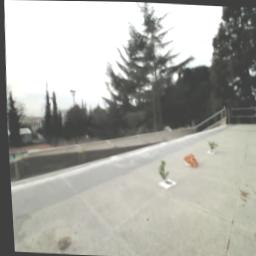herb: (155, 160, 171, 186), (206, 140, 217, 153)
wild: (180, 153, 199, 169)
